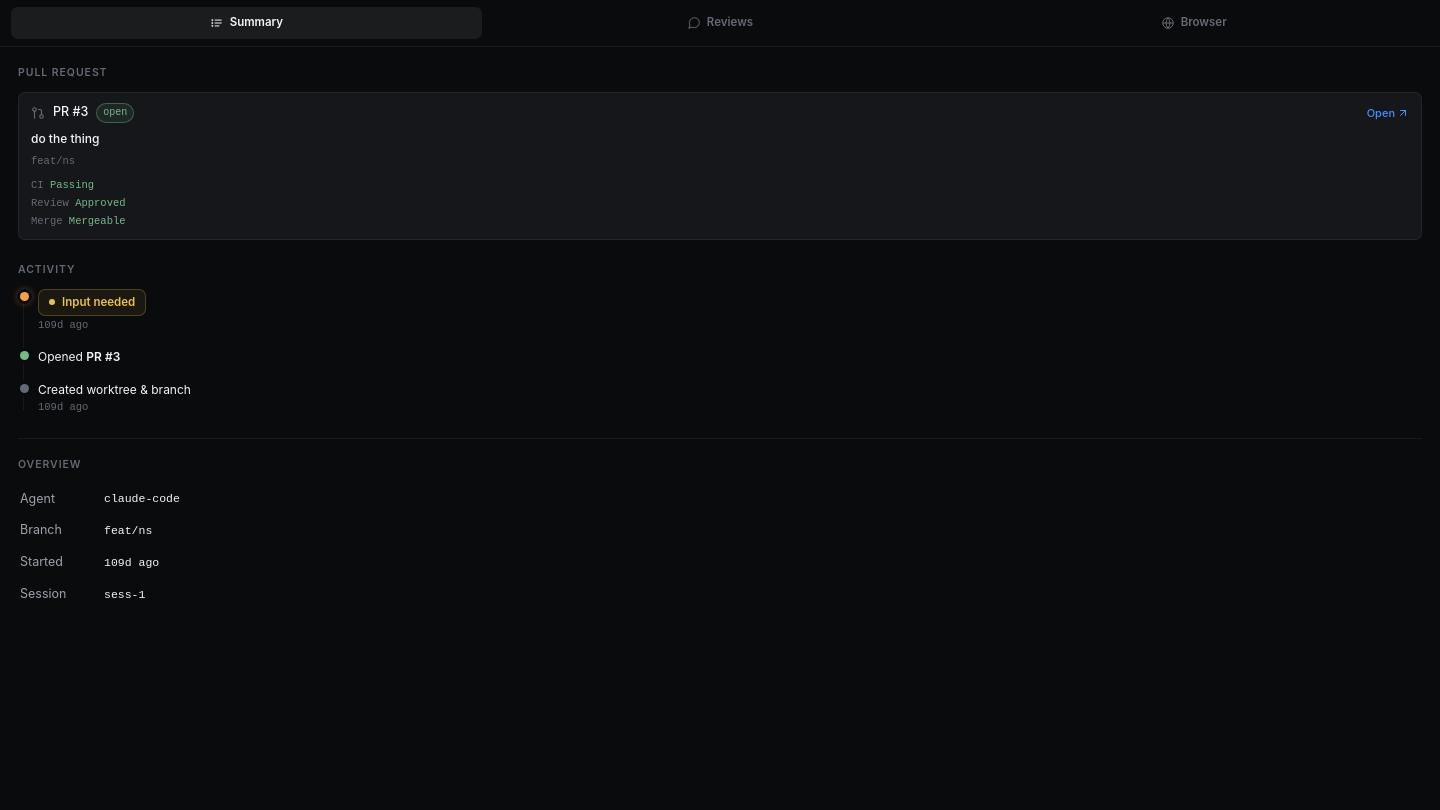
SessionInspector reviews tab › shows an up-to-date notice instead of opening the terminal when the backend reuses a run
The width and height of the screenshot is (1440, 810).
Click the tab "Reviews" at (720,23), box [485,7,955,39]
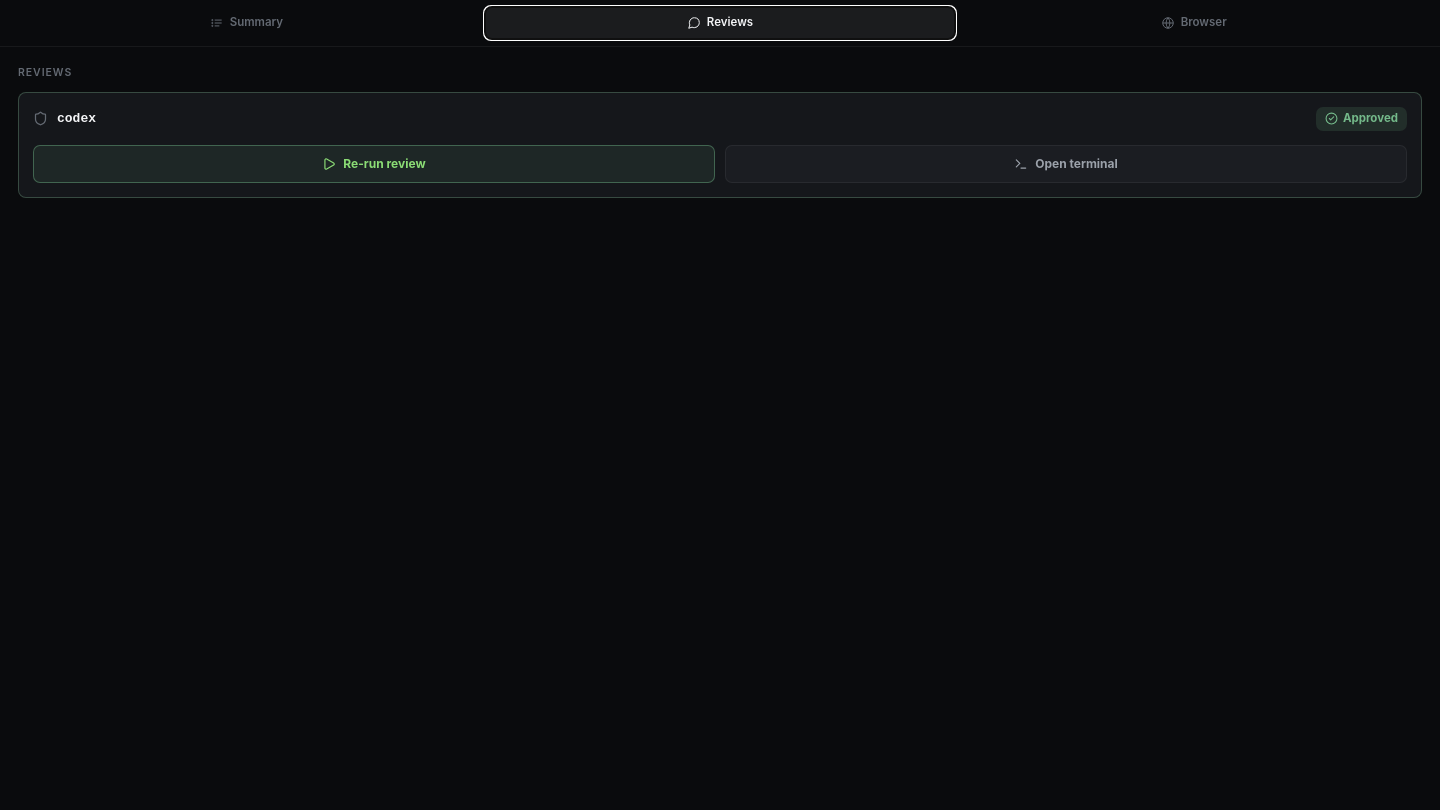
Click the button "Re-run review" at (374,164), box [33,145,715,183]
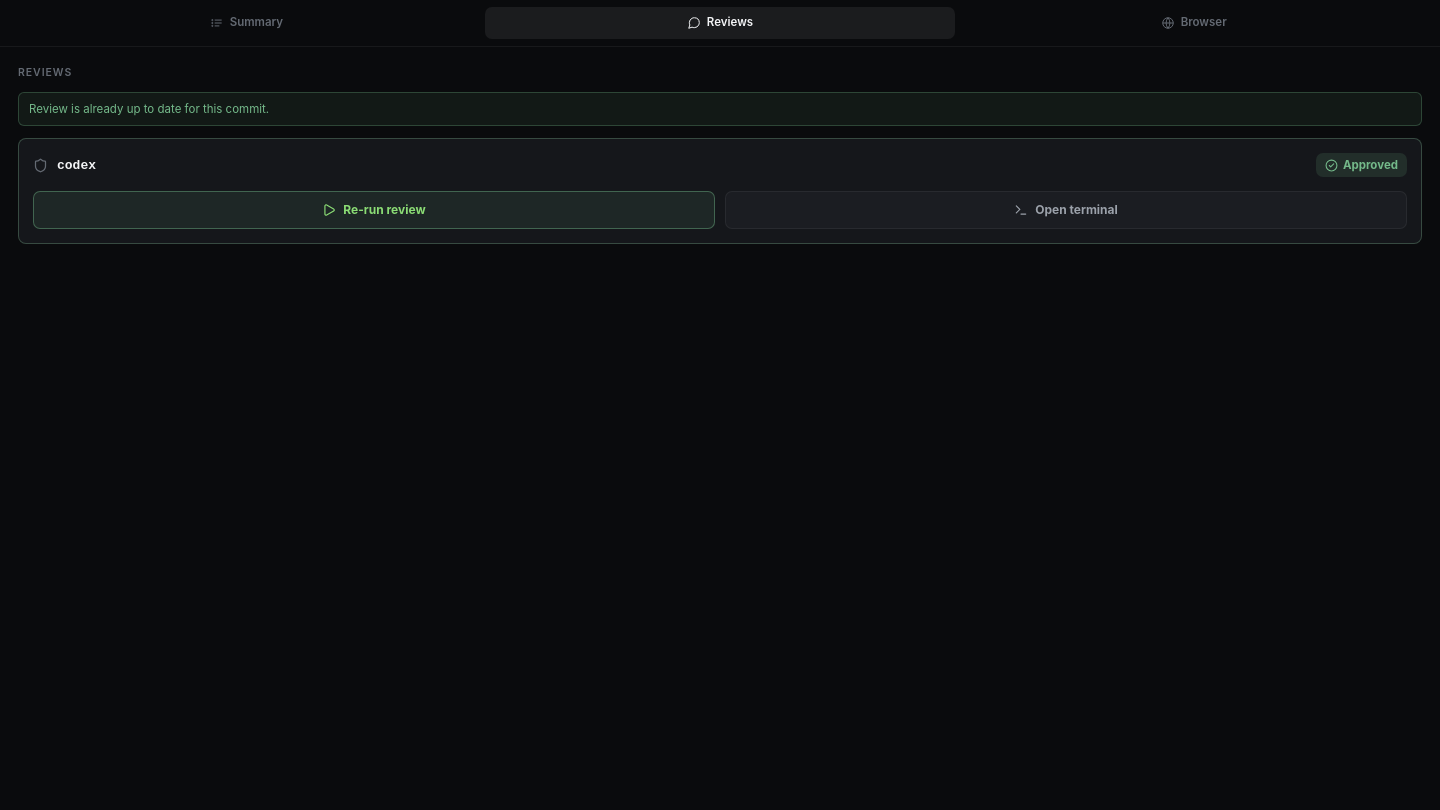
Expected: the text "Review is already up to date for this commit." is shown, [18,92,1422,126]
